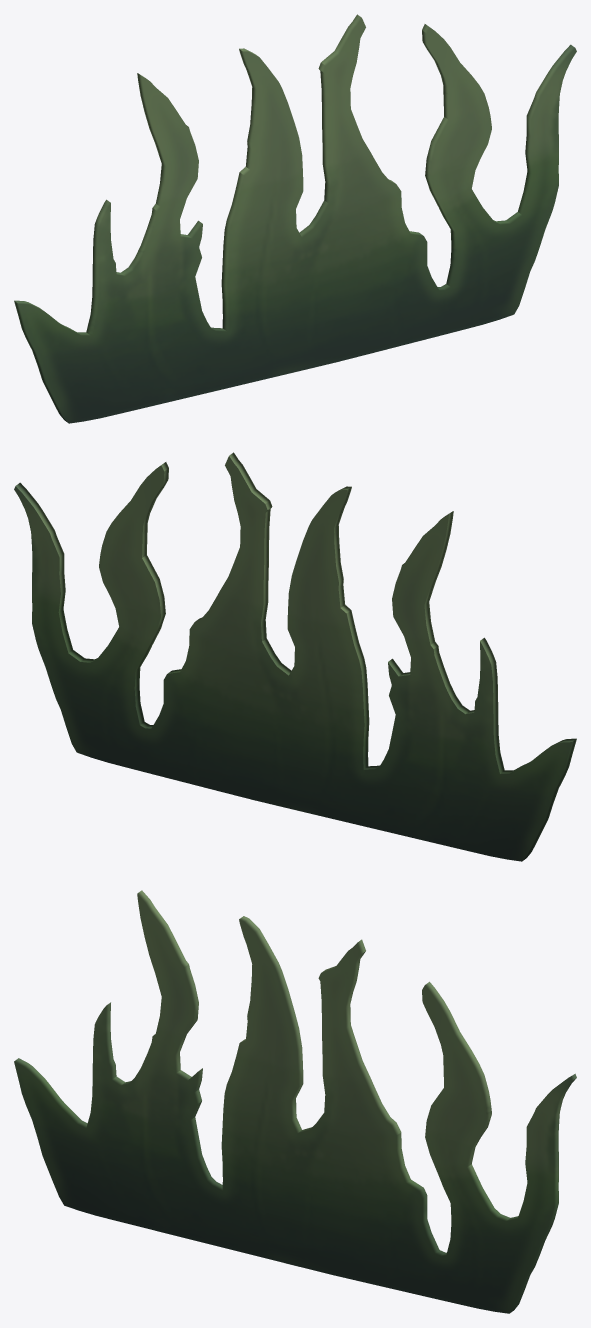
File: seagrass_plane.fbx
The picture shows the model from 3 angles, top to bottom: view 1: azimuth 30°, elevation 25°; view 2: azimuth 150°, elevation 25°; view 3: azimuth 330°, elevation 25°; orthographic projection.
Parts seen in each view (by area): view 1: Seagrass_plane; view 2: Seagrass_plane; view 3: Seagrass_plane.
Boxes of the visible parts, <box> form: Seagrass_plane: <box>14,14,576,423</box>; Seagrass_plane: <box>14,452,576,861</box>; Seagrass_plane: <box>14,890,576,1313</box>.
Bounding box in the file's own units: 128 × 73.95 × 1.89.
